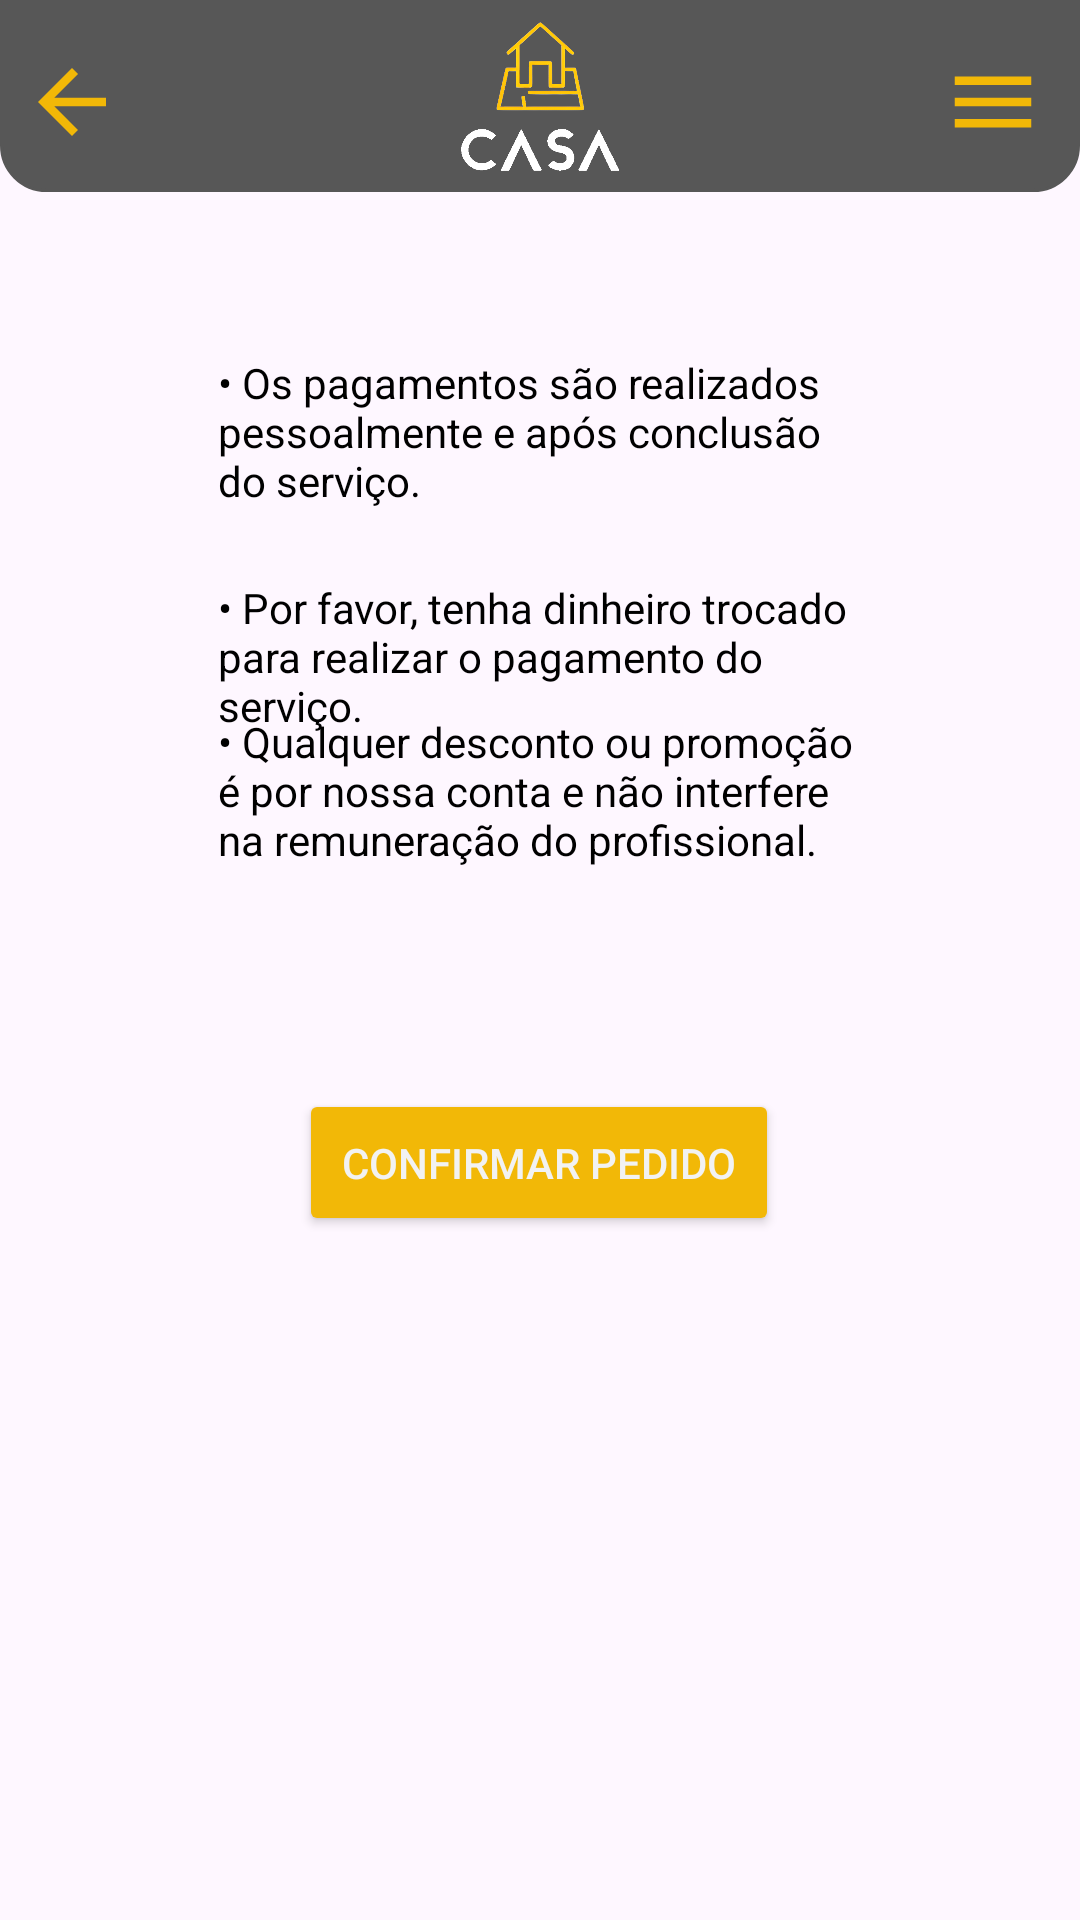

Icons on this 1080px×1920px Android screen, each with the point to tap as (x=x, y=y):
arrow back: (x=72, y=102)
menu: (x=993, y=102)
